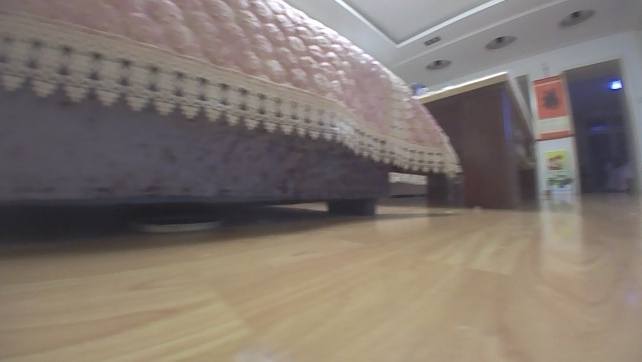sofa1: (0, 0, 465, 220)
tea_table1: (406, 68, 544, 210)
